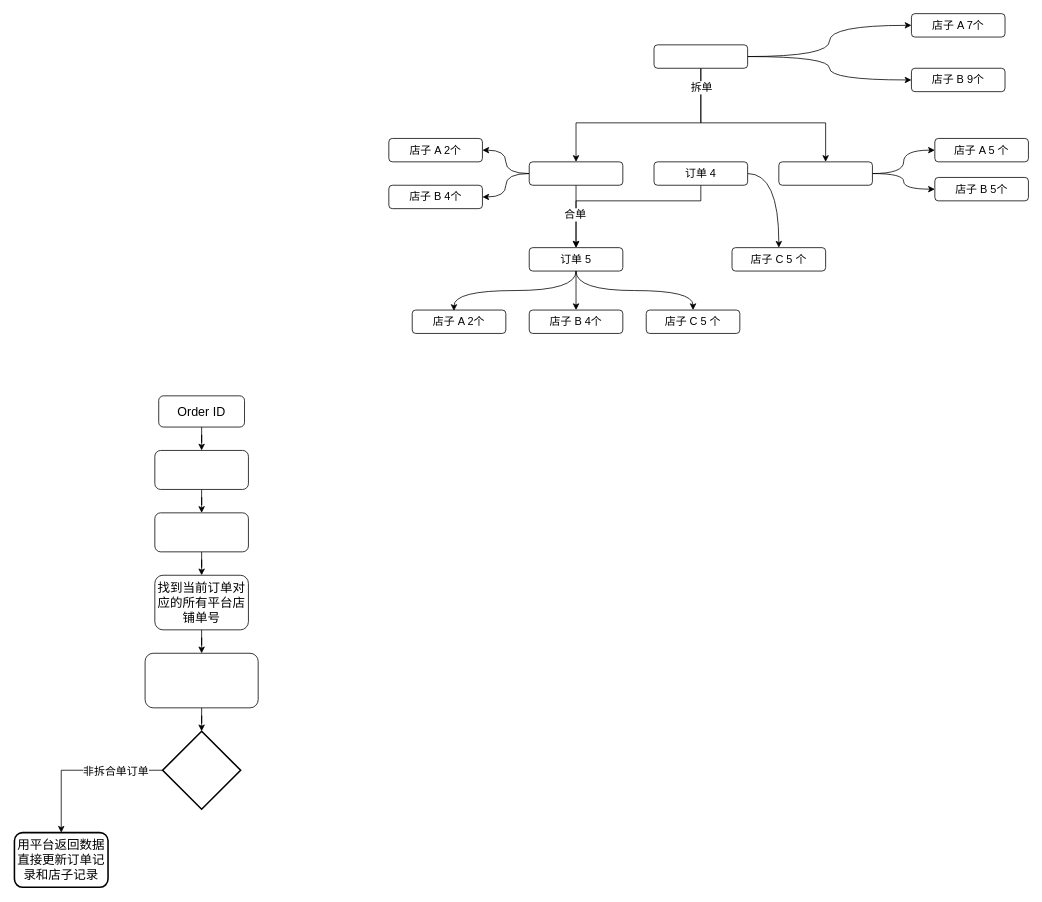
Image size: 1042x902. Some labels were removed from this diagram. The centre of each missing label's shape, as x and y in pixels:
"原始订单 1" belongs at (x=700, y=56).
"找到当前订单下所有店子" belongs at (x=201, y=532).
"找打当前订单下所有原子" belongs at (x=201, y=469).
"是否拆， 合单订单" belongs at (x=201, y=770).
"用店铺单号去调平台接口获取最新的订单和店子数据" belongs at (x=201, y=680).
"订单 2" belongs at (x=575, y=173).
"订单 3" belongs at (x=825, y=173).
